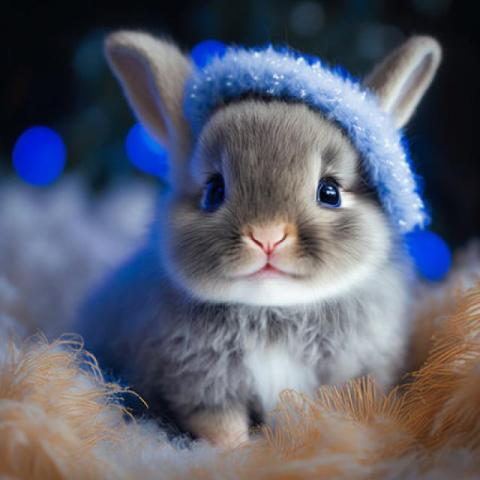small_animal: (95, 27, 448, 452)
